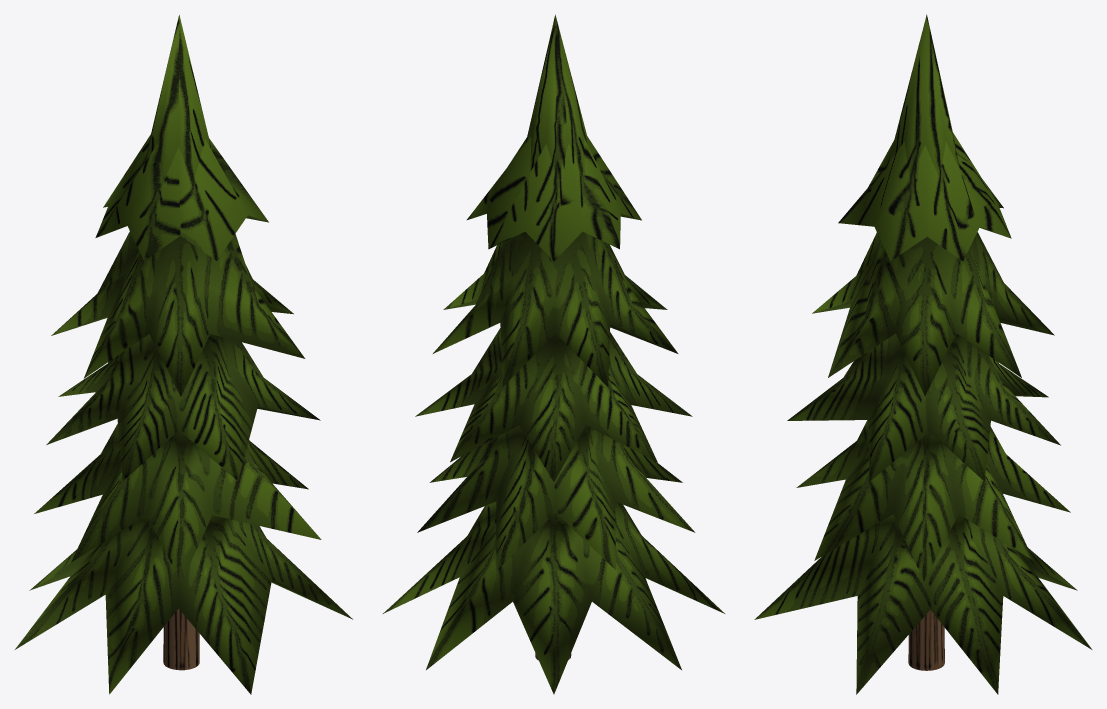
The model's file is gran_stor.fbx.
3 renders of one model, left to right at view 1: azimuth 30°, elevation 25°; view 2: azimuth 150°, elevation 25°; view 3: azimuth 270°, elevation 25°, orthographic.
Visible parts, largest first — view 1: tree:pCylinder1, pCylinder1; view 2: tree:pCylinder1; view 3: tree:pCylinder1, pCylinder1.
Part boxes in pixels (x1,y1,x2,y2): tree:pCylinder1: (15,15,352,694); pCylinder1: (163,608,199,670); tree:pCylinder1: (383,14,724,694); tree:pCylinder1: (754,14,1092,694); pCylinder1: (908,610,944,670).
Size of the model in its own units: 85.94 by 186 by 88.39.
